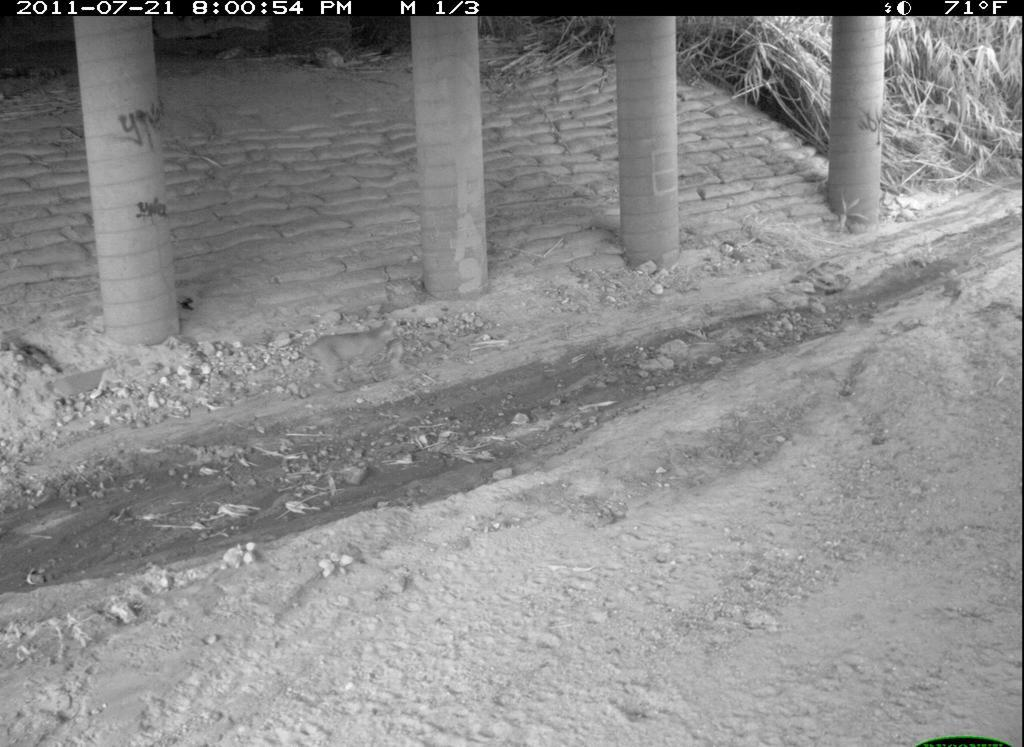bobcat: (586, 626, 819, 747)
rabbit: (767, 670, 817, 747)
